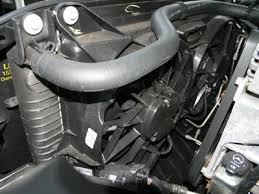radiator_hose: (34, 1, 258, 91)
